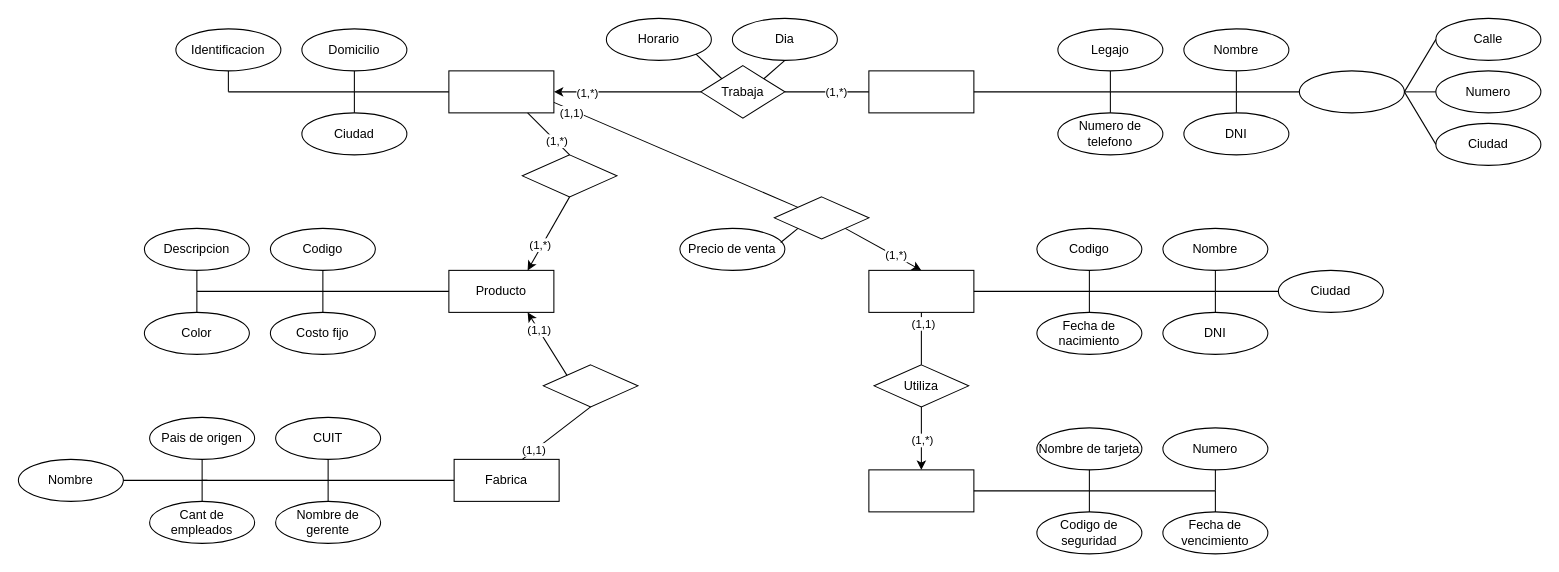
This 1559x572 diagram has some shape labels left out. Each missing label, with the centre of its shape:
"Cliente" goes at (921,290).
"Compra" goes at (569,175).
"Direccion" goes at (1351,91).
"Empleado" goes at (921,91).
"Produce" goes at (590,385).
"Sucursal" goes at (501,91).
"Tarjeta de credito" goes at (921,490).
"Vende" goes at (821,217).
